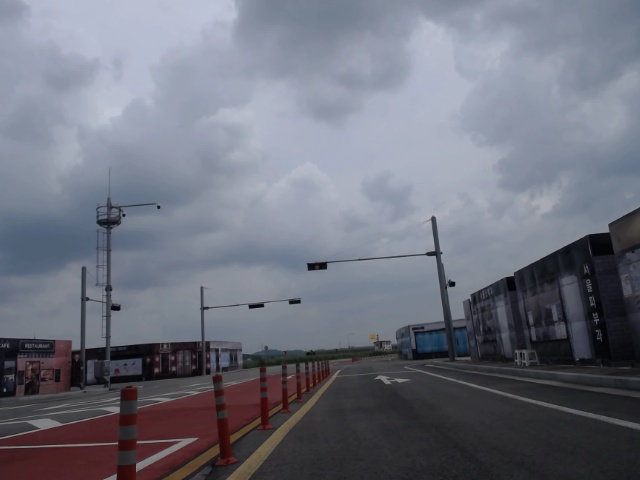orange_3: (308, 262, 327, 271)
